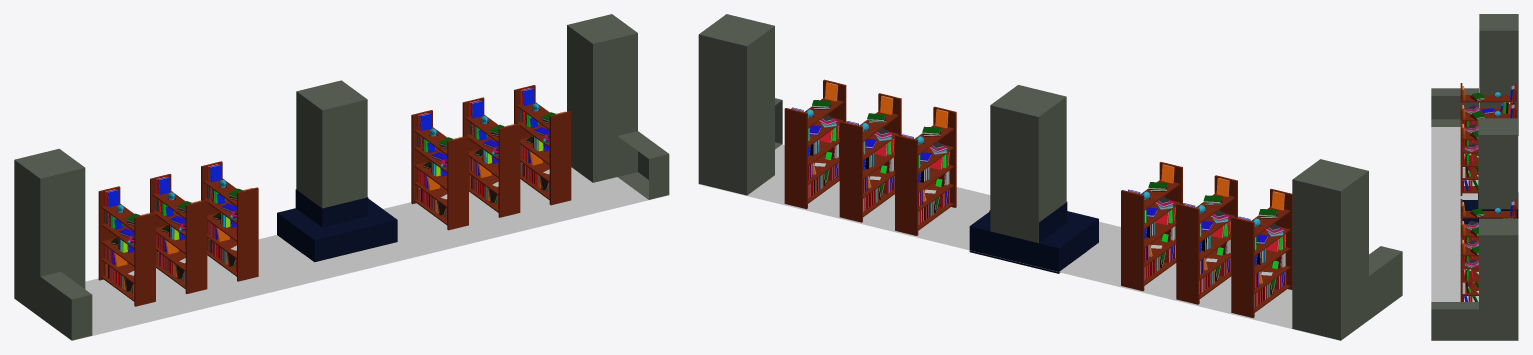
The model's file is Library MLG.obj.
3 views of the same model, side by side, from view 1: azimuth 30°, elevation 25°; view 2: azimuth 150°, elevation 25°; view 3: azimuth 270°, elevation 25° (orthographic). The views are drawn at different scales.
Visible parts, largest first — view 1: Plane, Cube.001, Cube.019, Cube.008, Cube.007, Cube.006, Cube, Cube.009, Cube.010; view 2: Cube.001, Cube.019, Cube.007, Cube.008, Cube.006, Plane, Cube, Cube.010; view 3: Plane, Cube.008, Cube.006, Cube.007, Cube.019, Cube.001, Cube.009, Cube.010, Cube.
Boxes of the visible parts, bbox=[...] form: Plane: bbox=[19, 167, 669, 340]; Cube.001: bbox=[411, 85, 571, 230]; Cube.019: bbox=[98, 161, 258, 306]; Cube.008: bbox=[567, 14, 637, 182]; Cube.007: bbox=[14, 148, 85, 316]; Cube.006: bbox=[296, 80, 367, 208]; Cube: bbox=[277, 189, 397, 262]; Cube.009: bbox=[617, 131, 669, 199]; Cube.010: bbox=[40, 271, 92, 340]; Cube.001: bbox=[784, 79, 956, 235]; Cube.019: bbox=[1121, 162, 1292, 318]; Cube.007: bbox=[1292, 159, 1368, 340]; Cube.008: bbox=[698, 14, 774, 195]; Cube.006: bbox=[990, 85, 1066, 242]; Plane: bbox=[698, 144, 1371, 340]; Cube: bbox=[969, 202, 1098, 273]; Cube.010: bbox=[1369, 246, 1402, 319]; Plane: bbox=[1431, 127, 1518, 340]; Cube.008: bbox=[1479, 218, 1518, 340]; Cube.006: bbox=[1478, 118, 1517, 209]; Cube.007: bbox=[1479, 14, 1518, 135]; Cube.019: bbox=[1460, 83, 1516, 195]; Cube.001: bbox=[1460, 199, 1516, 301]; Cube.009: bbox=[1431, 302, 1478, 340]; Cube.010: bbox=[1431, 88, 1478, 126]; Cube: bbox=[1462, 192, 1518, 223].
Size of the model in its own units: 58.28 by 13.14 by 9.73.
